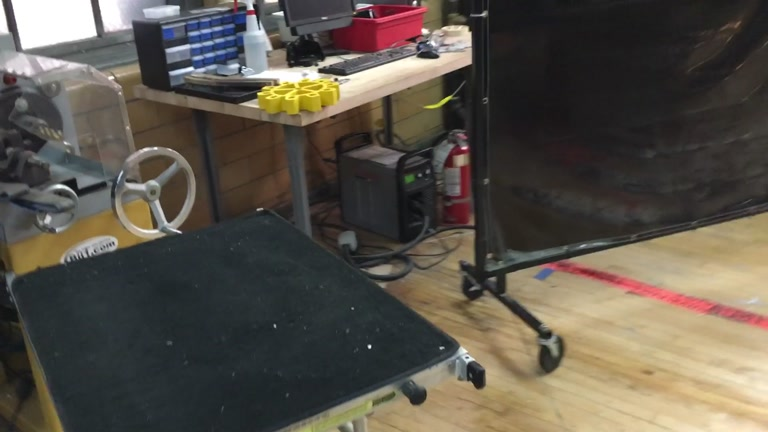gear: (257, 76, 340, 116)
